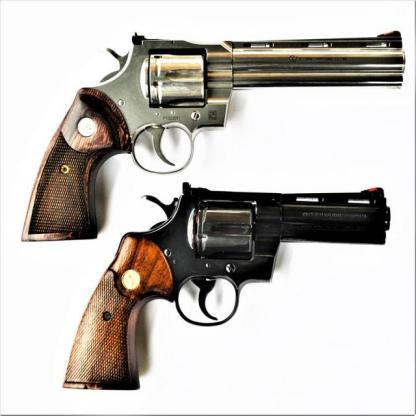handgun: (25, 28, 406, 389)
